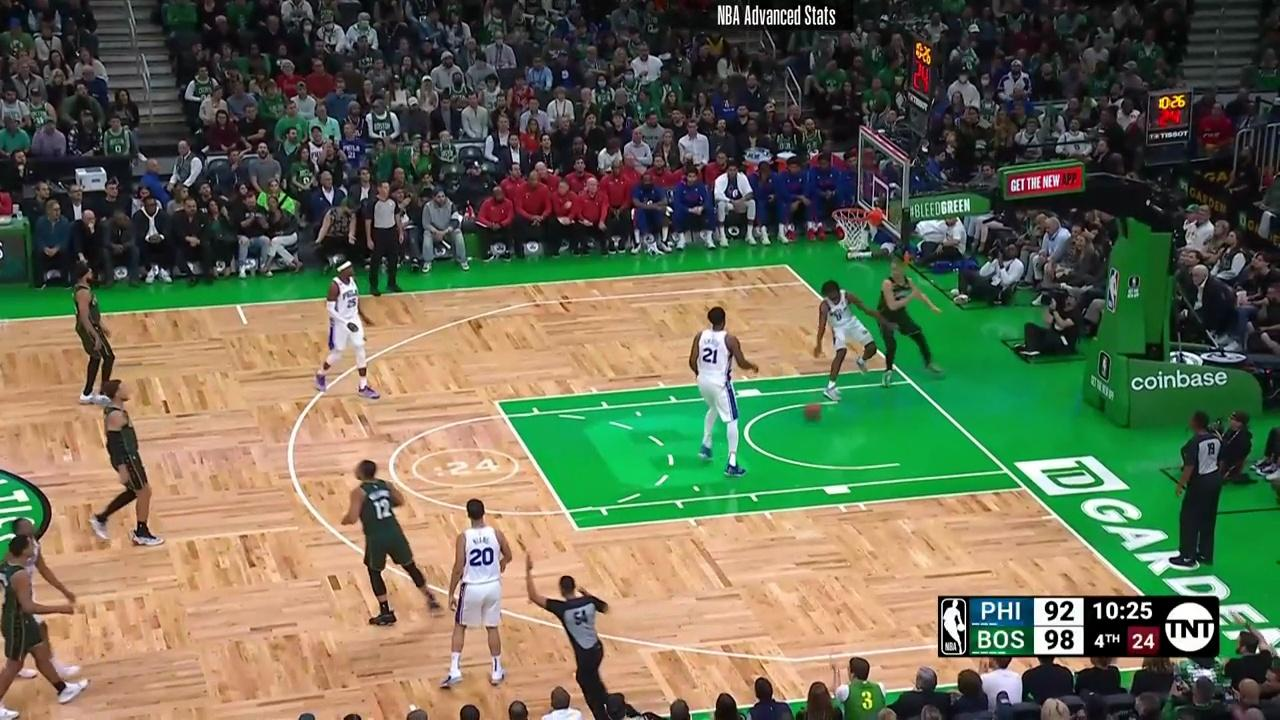Backboard: (856, 126, 908, 243)
Ball: (805, 404, 823, 420)
Basket: (830, 204, 873, 249)
Dribble: (806, 418, 821, 421)
Person: (338, 458, 441, 626), (0, 540, 86, 720), (438, 496, 513, 695), (84, 377, 165, 555), (686, 301, 761, 479), (59, 254, 132, 409), (310, 259, 387, 403), (874, 257, 949, 391), (806, 276, 885, 403)
Referee: (520, 547, 615, 719), (1167, 410, 1235, 569), (359, 174, 411, 297)
Shot Clock: (899, 36, 941, 136), (1147, 91, 1195, 170)
